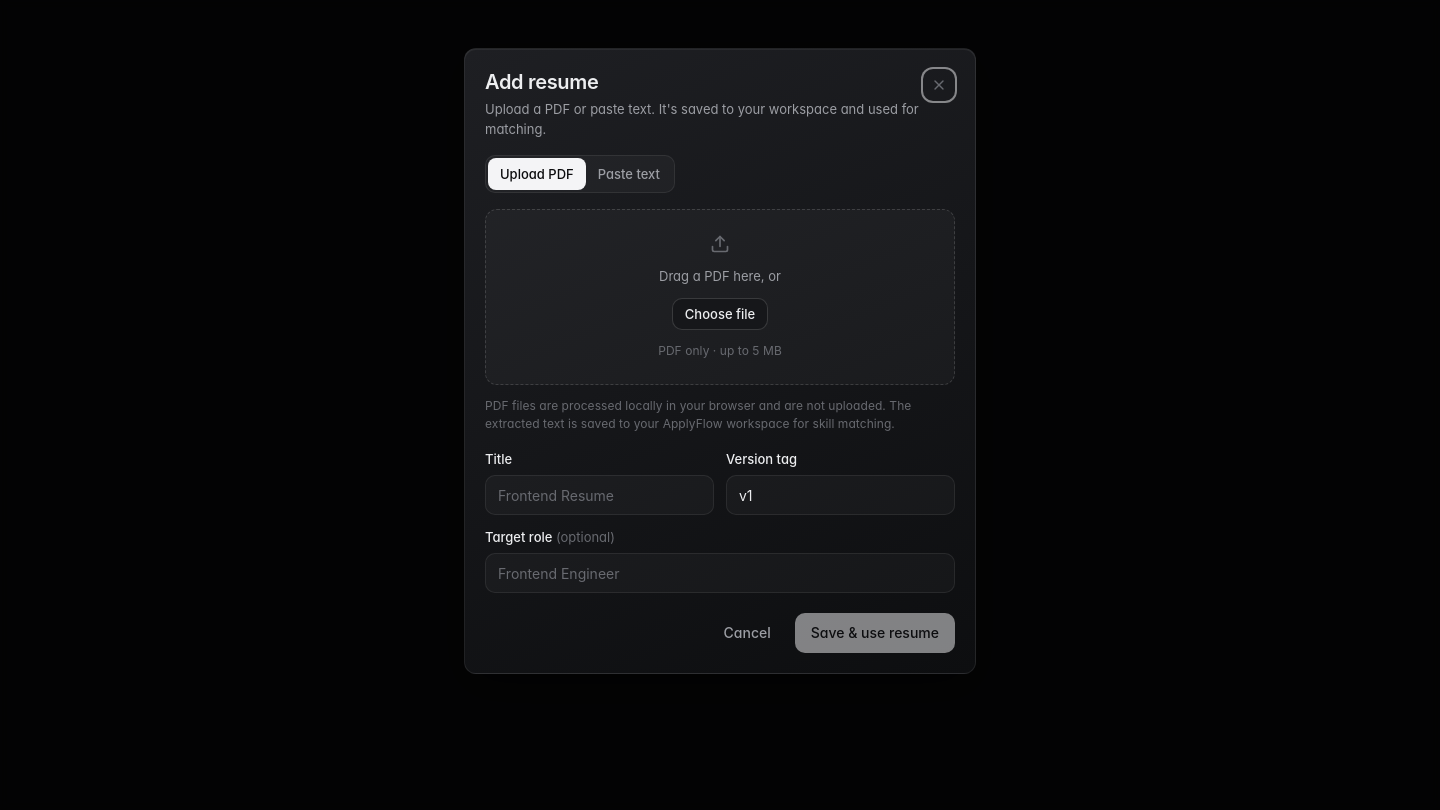
it: AddResumeDialog › surfaces an API error without closing
Click the button "Paste text".
click(629, 174)  # box x1=586 y1=158 x2=672 y2=190
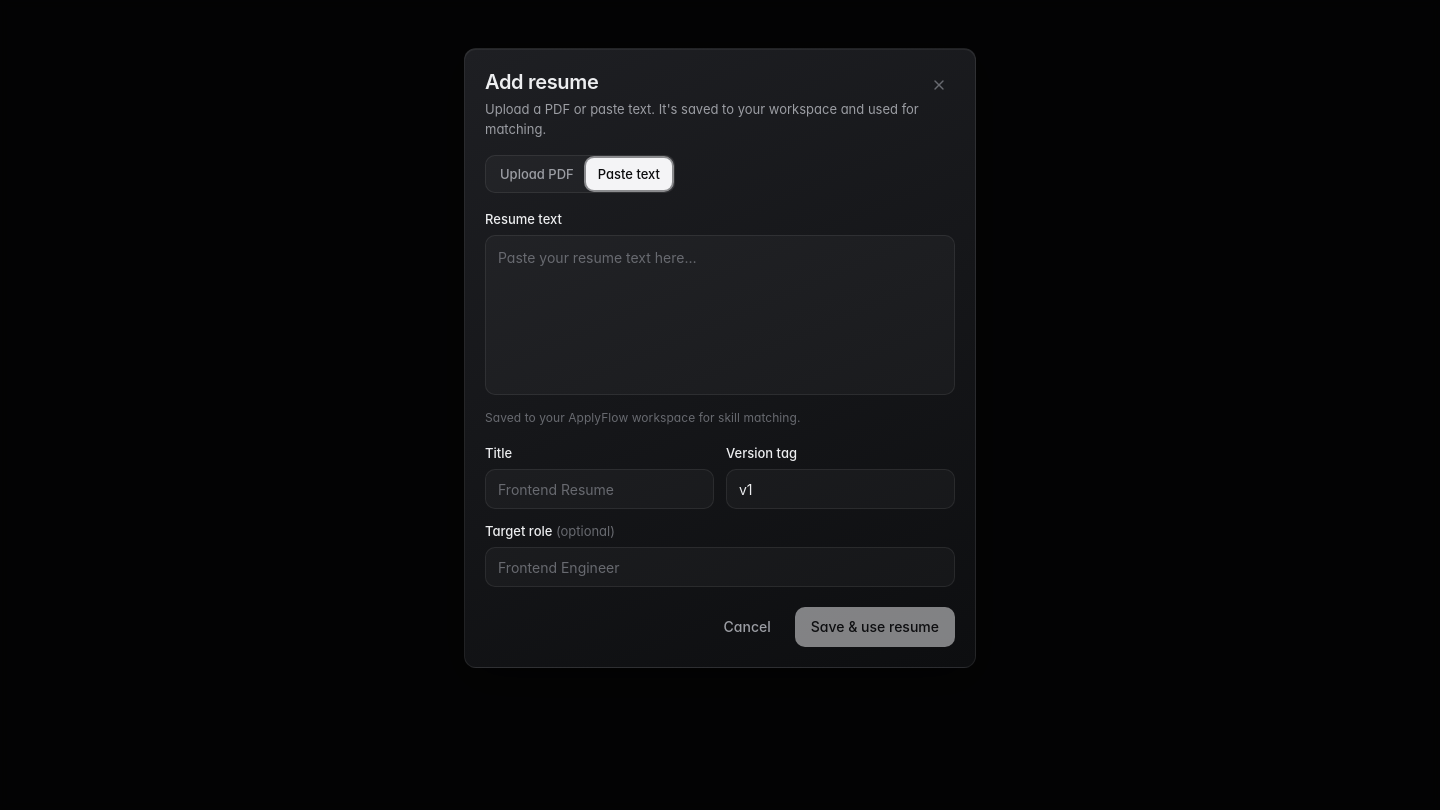
Type "Some resume text." into the text box labelled "Resume text".
click(720, 315); type("Some resume text.")  # box x1=485 y1=235 x2=955 y2=395
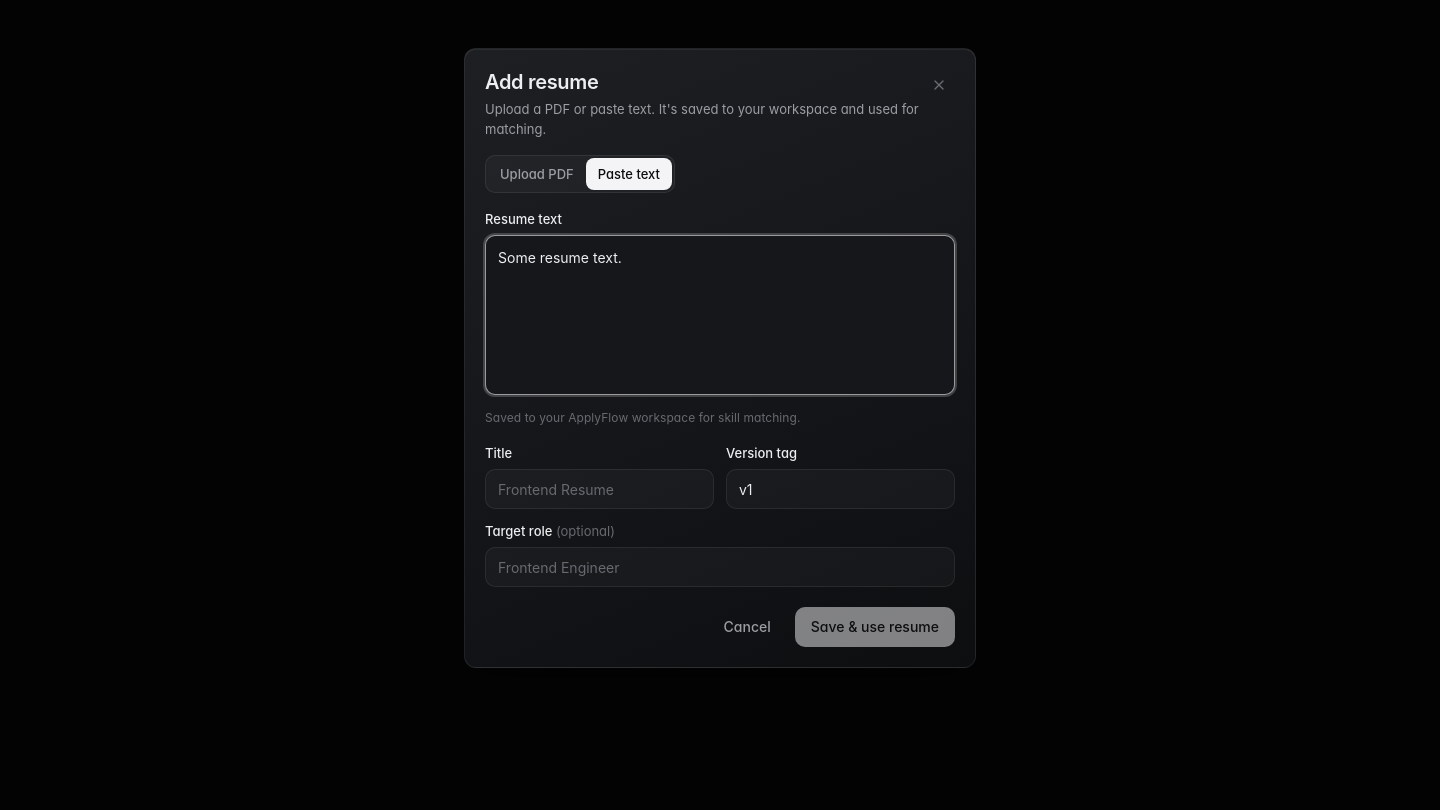
Type "Broken Resume" into the field labelled "Title".
click(600, 489); type("Broken Resume")  # box x1=485 y1=469 x2=714 y2=509
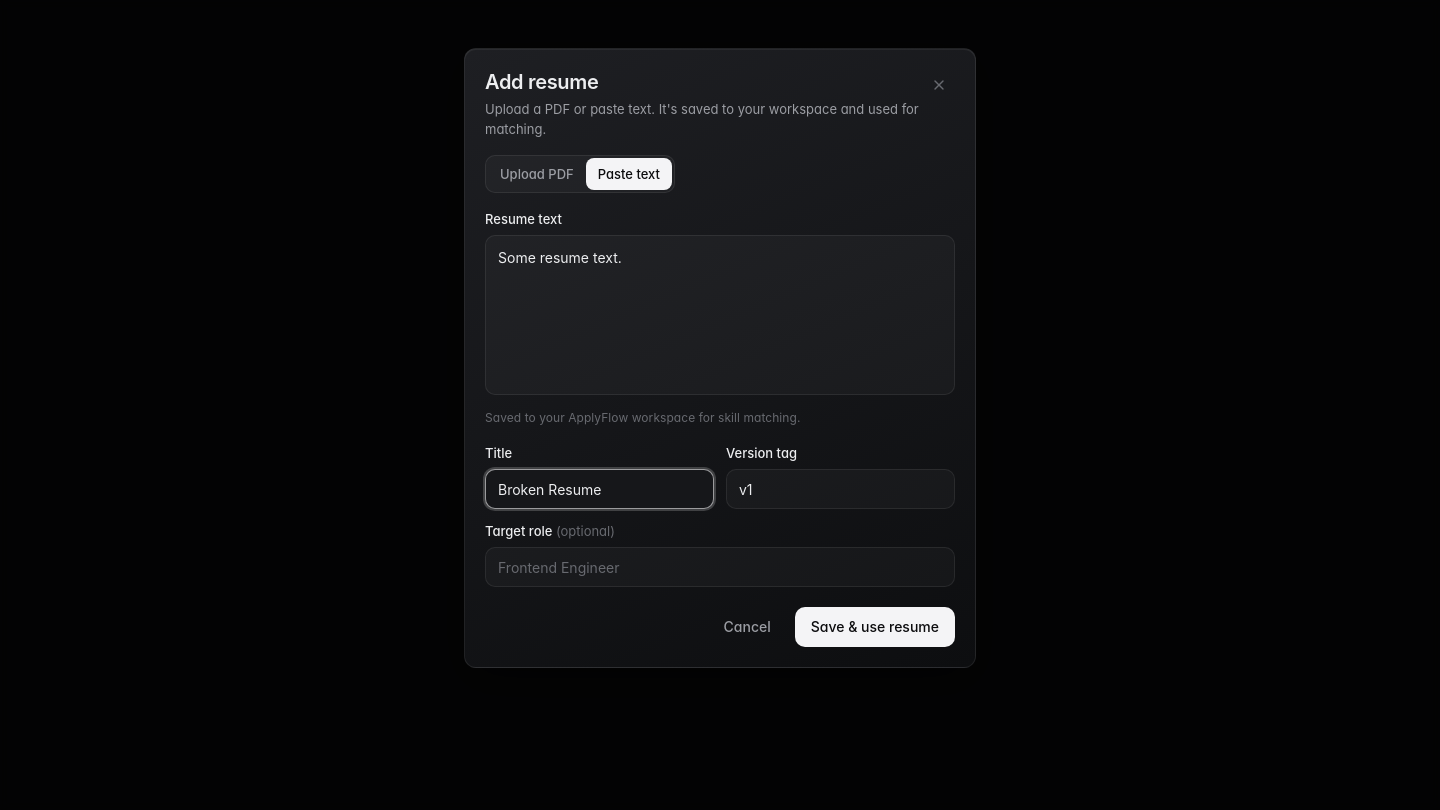
Click the button "Save & use resume".
click(875, 627)  # box x1=795 y1=607 x2=955 y2=647
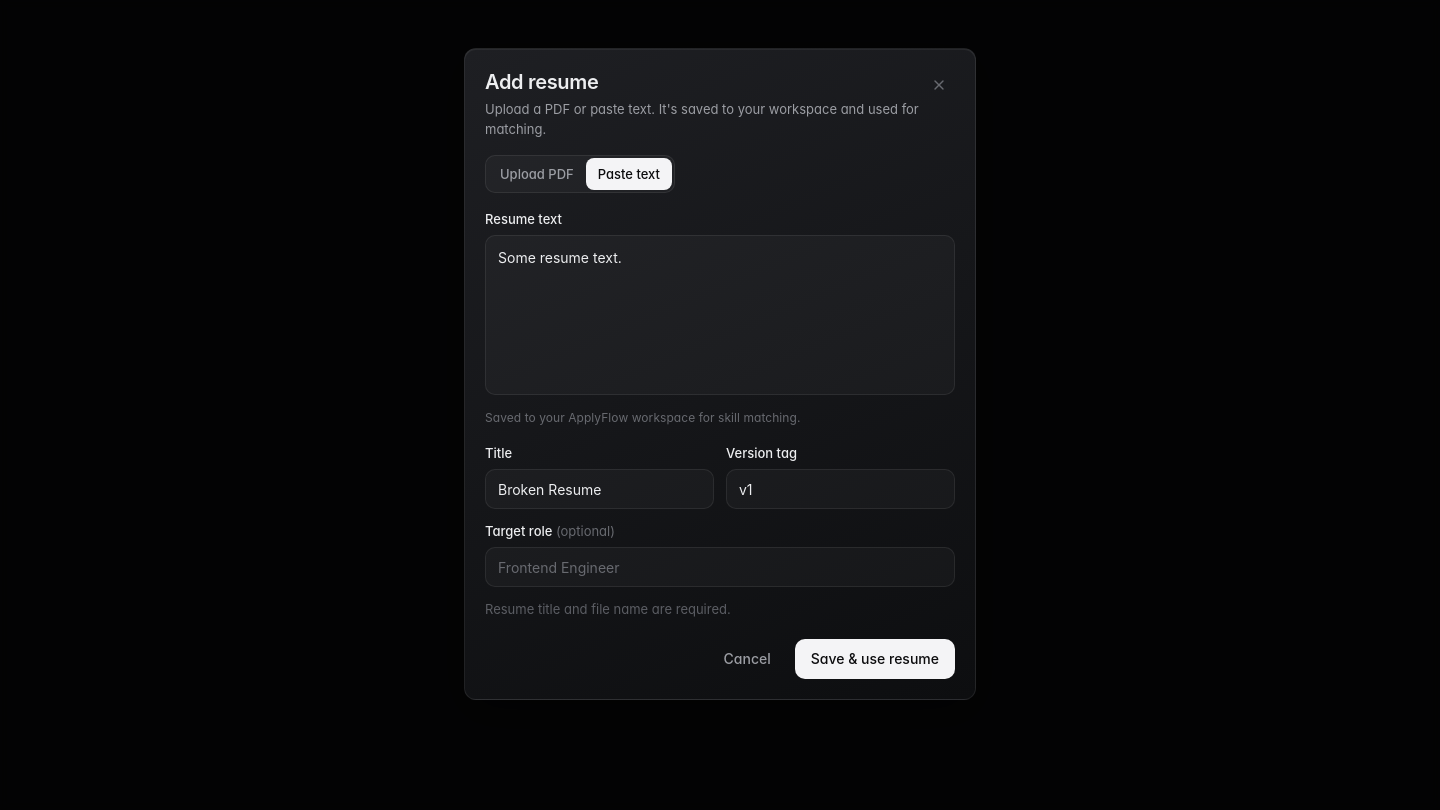
Now the message shows "title and file name are required", box x1=485 y1=601 x2=731 y2=617
